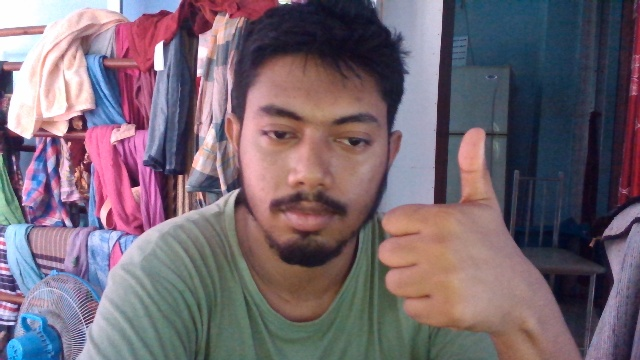yes: (366, 120, 533, 341)
